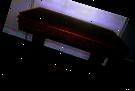Mesa: (5, 2, 131, 90)
